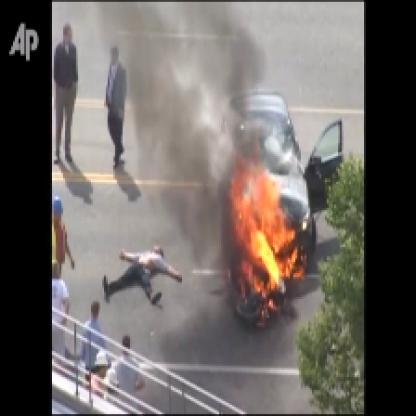Fire: (219, 130, 308, 316)
Smoke: (124, 2, 234, 260)
